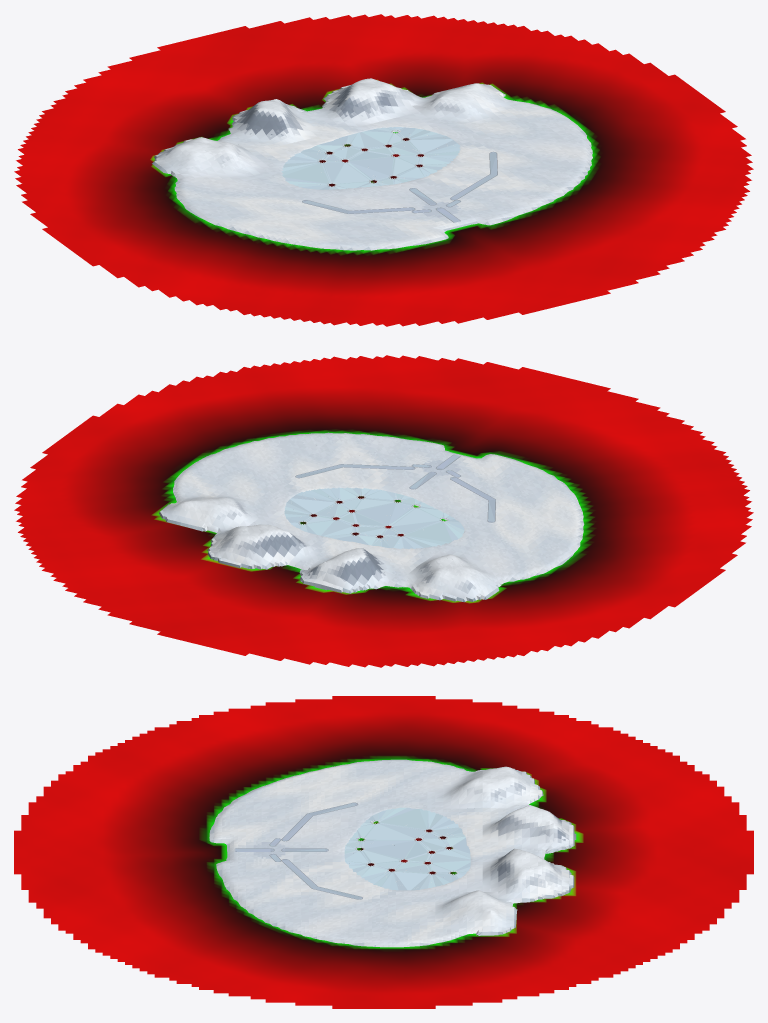
Rendered from zone_frost.glb.
The picture shows the model from 3 angles, top to bottom: view 1: azimuth 30°, elevation 25°; view 2: azimuth 150°, elevation 25°; view 3: azimuth 270°, elevation 25°; orthographic projection.
Parts seen in each view (by area): view 1: water, ice, terrain_2_1, terrain_0_1, terrain_1_1__lod, terrain_0_1__lod, terrain_2_1__lod, terrain_1_1, terrain_1_0__lod, terrain_1_0, terrain_1_2__lod, terrain_1_2 (+7 smaller); view 2: water, ice, terrain_2_1, terrain_0_1, terrain_1_1__lod, terrain_1_0, terrain_1_1, terrain_1_0__lod, terrain_2_1__lod, terrain_0_1__lod, terrain_1_2__lod, terrain_1_2 (+8 smaller); view 3: water, ice, terrain_2_1, terrain_0_1, terrain_1_1__lod, terrain_2_1__lod, terrain_1_0, terrain_1_1, terrain_0_1__lod, terrain_1_0__lod, terrain_1_2__lod, terrain_1_2 (+9 smaller).
Boxes of the visible parts, x1,y1,x2,y2 form: water: [14, 14, 753, 326]; ice: [281, 127, 460, 189]; terrain_2_1: [421, 88, 592, 183]; terrain_0_1: [171, 145, 347, 239]; terrain_1_1__lod: [251, 112, 516, 224]; terrain_0_1__lod: [174, 147, 339, 242]; terrain_2_1__lod: [420, 88, 592, 179]; terrain_1_1: [253, 112, 514, 222]; terrain_1_0__lod: [225, 81, 418, 152]; terrain_1_0: [228, 78, 415, 151]; terrain_1_2__lod: [350, 183, 541, 249]; terrain_1_2: [348, 184, 543, 249]; water: [14, 355, 753, 667]; ice: [284, 487, 464, 548]; terrain_2_1: [170, 437, 347, 520]; terrain_0_1: [421, 494, 582, 586]; terrain_1_1__lod: [251, 453, 516, 564]; terrain_1_0: [209, 524, 417, 592]; terrain_1_1: [251, 454, 509, 563]; terrain_1_0__lod: [212, 524, 419, 593]; terrain_2_1__lod: [167, 437, 340, 523]; terrain_0_1__lod: [420, 497, 584, 584]; terrain_1_2__lod: [349, 436, 546, 492]; terrain_1_2: [350, 435, 547, 493]; water: [14, 696, 753, 1008]; ice: [344, 807, 470, 890]; terrain_2_1: [285, 890, 482, 947]; terrain_0_1: [285, 760, 482, 808]; terrain_1_1__lod: [285, 807, 482, 891]; terrain_2_1__lod: [285, 892, 482, 946]; terrain_1_0: [482, 805, 576, 893]; terrain_1_1: [285, 807, 482, 891]; terrain_0_1__lod: [285, 759, 482, 808]; terrain_1_0__lod: [482, 806, 571, 891]; terrain_1_2__lod: [209, 808, 285, 892]; terrain_1_2: [213, 808, 285, 893].
Size of the model in its own units: 300 by 14.81 by 300.
